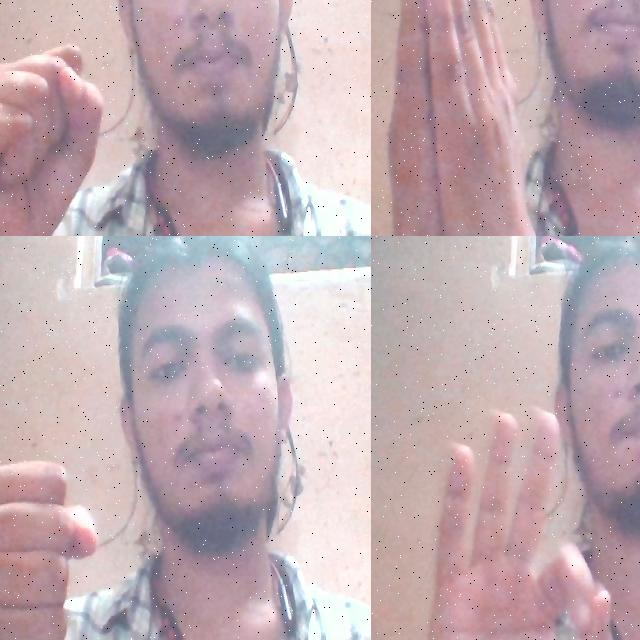No: (0, 37, 116, 236), (0, 451, 108, 640)
Please: (410, 400, 623, 640)
Thank You: (371, 0, 558, 236)
